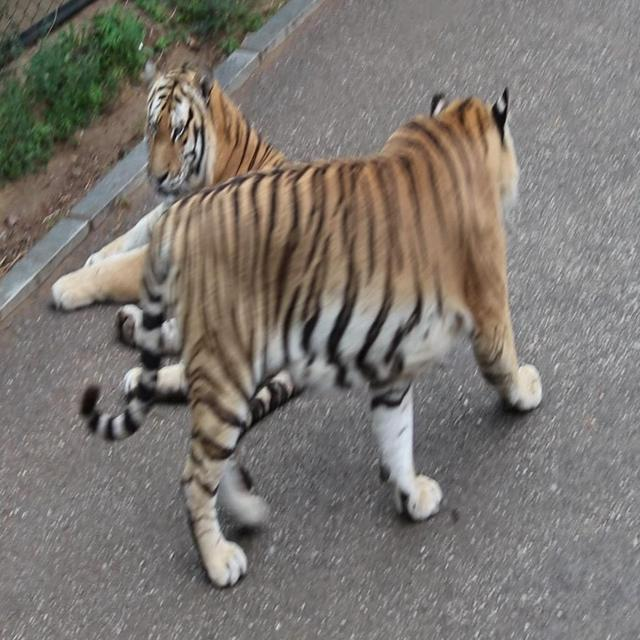tiger: (59, 85, 578, 592), (49, 69, 362, 449)
